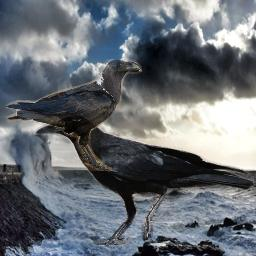Crow: (34, 112, 254, 245), (6, 59, 142, 171)
